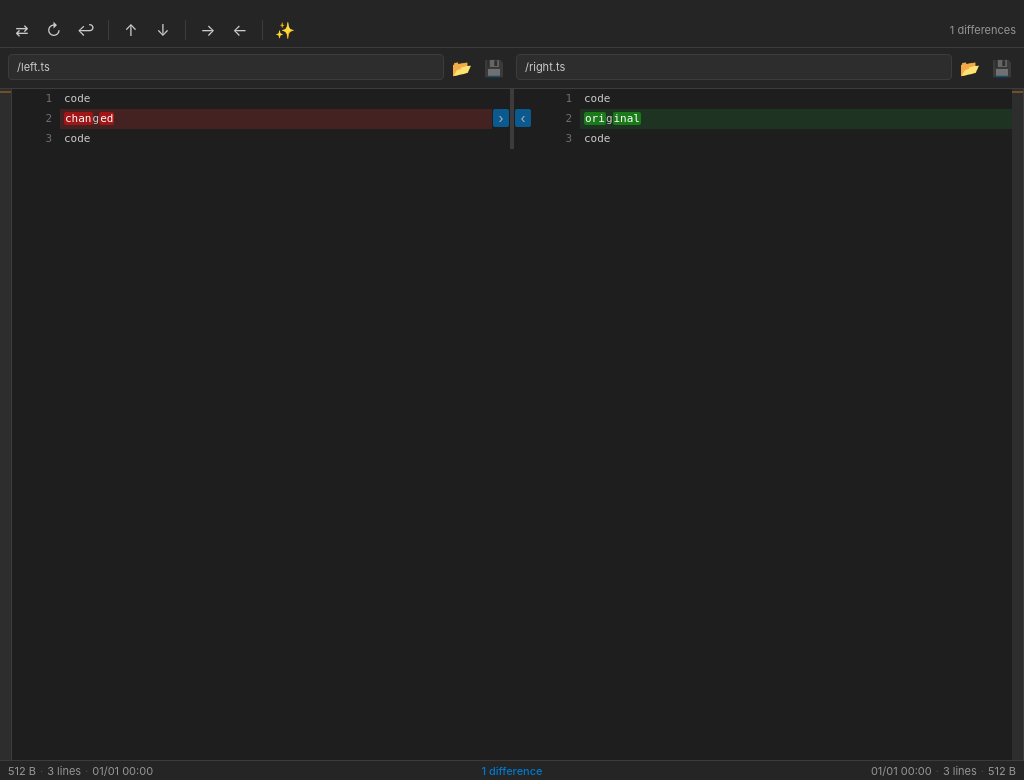
Test: Copy single line to other side (feature 5.1) › copy-to-right button removes the diff row (makes it equal)
Expected: the element with class "fd-diff-modified" showing "2 changed" is shown, [12,109,492,129]
Click the button with class "fd-line-copy-right": (501, 118) [493,109,509,127]
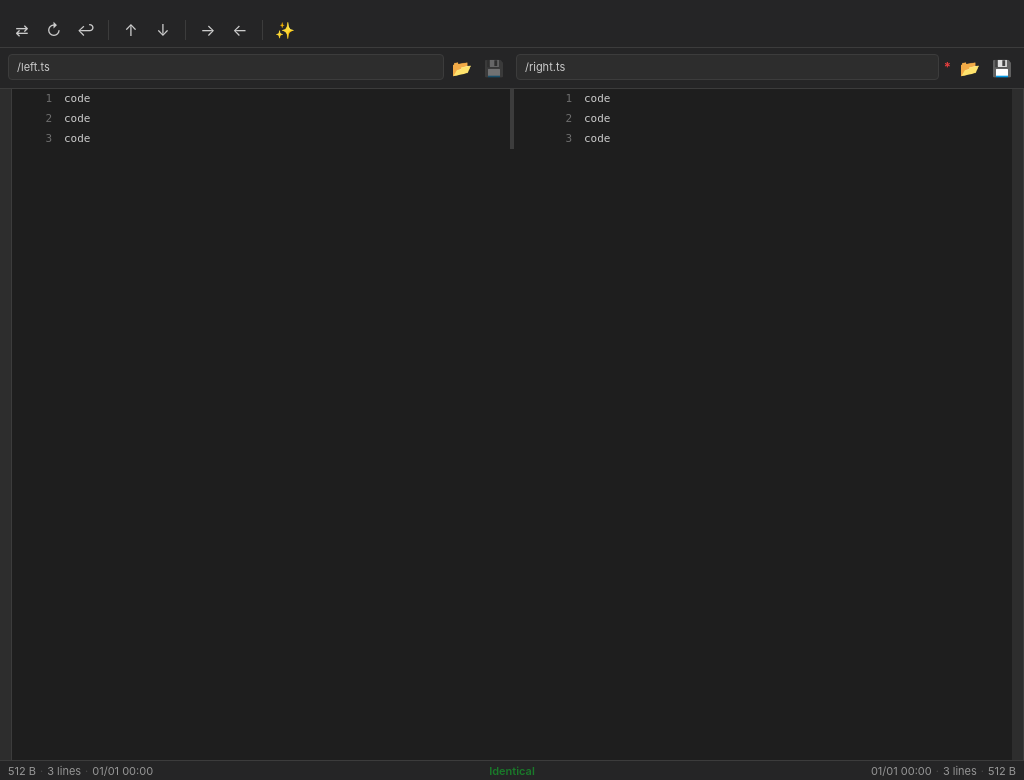
Expected: the 2nd button "💾" is enabled, [988,54,1016,82]
